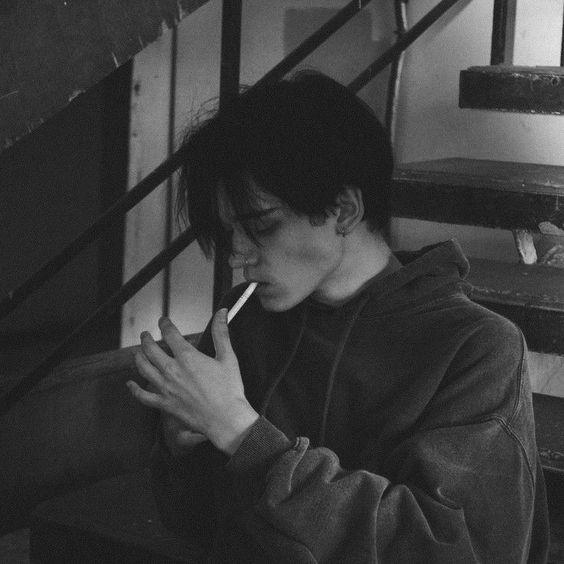cigarette: (227, 281, 259, 325)
